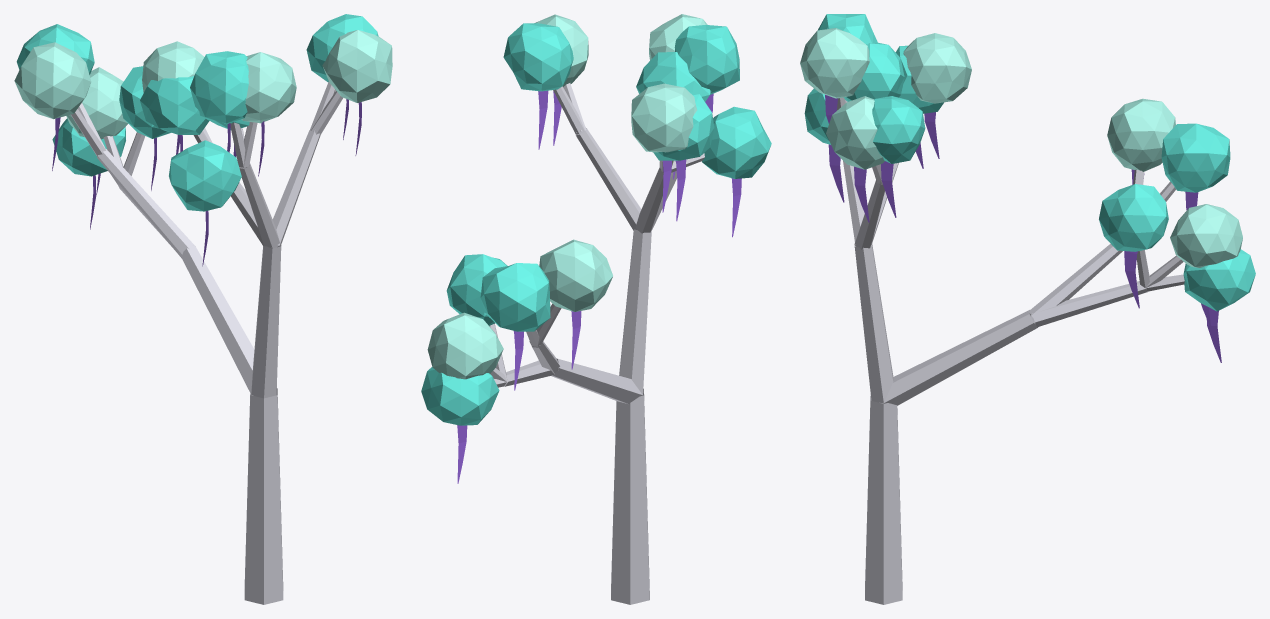
Rendered from ET_Tree_SpiritTree.obj.
The picture shows the model from 3 angles, left to right: view 1: azimuth 30°, elevation 25°; view 2: azimuth 150°, elevation 25°; view 3: azimuth 270°, elevation 25°; orthographic projection. The views are drawn at different scales.
Parts seen in each view (by area): view 1: trunk, orb_12, orb_6, orb_4, orb_1, trunk_0, trunk_1, orb_0, orb_5, orb_9, trunk_1_1, orb_10 (+9 smaller); view 2: trunk, orb_11, orb_12, orb_7, orb_9, orb_3, orb_4, trunk_0, orb_1, orb_10, orb_8, trunk_1 (+8 smaller); view 3: trunk, trunk_1, orb_11, orb_8, orb_0, orb_3, orb_12, orb_9, trunk_0, orb_6, orb_10, orb_7 (+8 smaller).
Boxes of the visible parts, x1,y1,x2,y2 form: trunk: (244,388,283,604); orb_12: (14,42,91,119); orb_6: (322,30,392,102); orb_4: (169,140,241,211); orb_1: (190,51,248,124); trunk_0: (251,245,281,398); trunk_1: (180,246,254,395); orb_0: (241,52,296,123); orb_5: (140,76,209,134); orb_9: (66,67,128,139); trunk_1_1: (97,149,195,258); orb_10: (52,118,125,176); trunk: (611,388,649,604); orb_11: (480,263,550,331); orb_12: (539,239,612,311); orb_7: (503,23,573,91); orb_9: (427,312,503,379); orb_3: (631,83,697,152); orb_4: (702,106,771,178); trunk_0: (619,229,651,394); orb_1: (674,25,739,94); orb_10: (421,367,499,425); orb_8: (446,254,507,325); trunk_1: (551,358,642,404); trunk: (865,395,902,604); trunk_1: (883,310,1038,405); orb_11: (1161,123,1230,192); orb_8: (1099,184,1168,251); orb_0: (800,28,869,98); orb_3: (903,33,971,103); orb_12: (1107,98,1175,171); orb_9: (1170,204,1242,268); trunk_0: (854,243,893,403); orb_6: (826,96,884,169); orb_10: (1183,249,1255,311); orb_7: (872,96,925,163).
Size of the model in its own units: 9.59 by 22.32 by 16.67.
